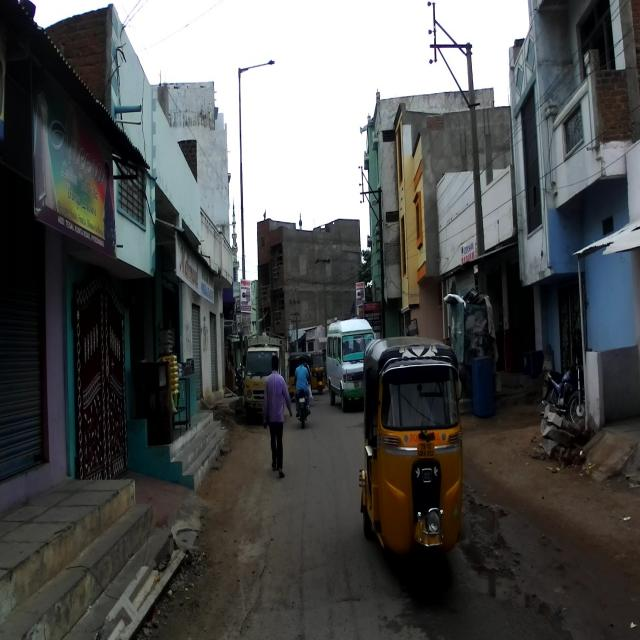autorickshaw: (358, 334, 464, 584), (307, 349, 325, 395)
mini-bus: (326, 316, 377, 413)
motorcycle_Hero: (538, 345, 585, 425)
motorcycle_bajaj: (293, 378, 312, 428)
truck: (244, 333, 283, 424)
